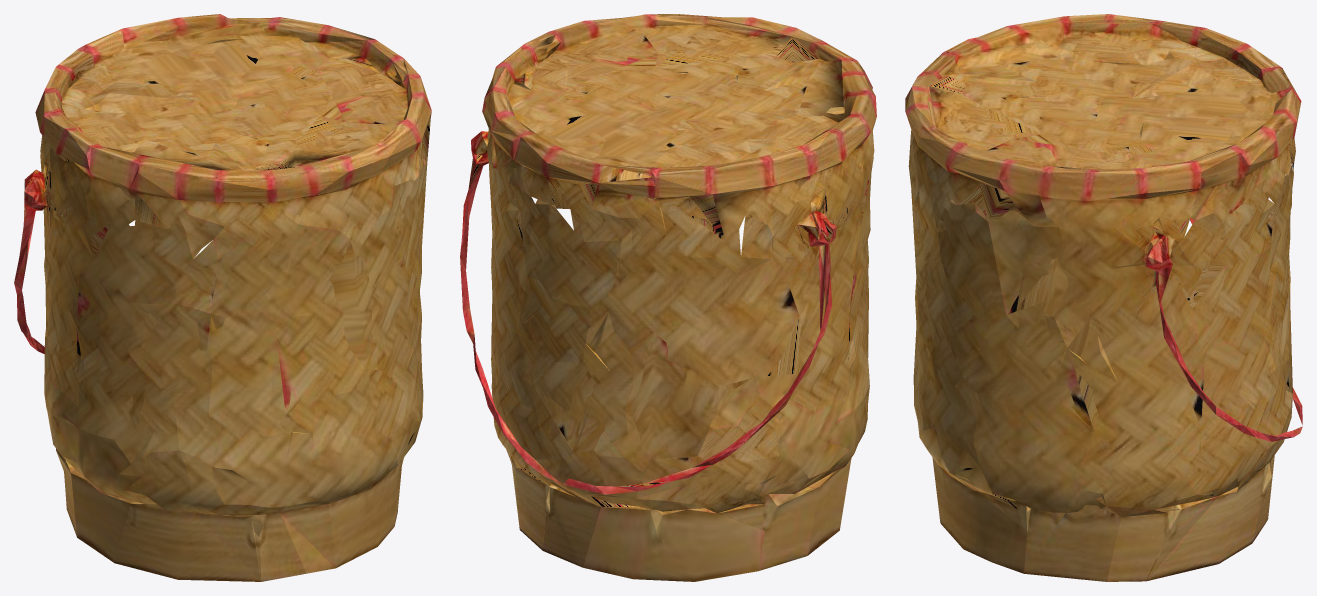
The model's file is w3kratip.glb.
The picture shows the model from 3 angles, left to right: view 1: azimuth 30°, elevation 25°; view 2: azimuth 150°, elevation 25°; view 3: azimuth 270°, elevation 25°; orthographic projection.
Parts seen in each view (by area): view 1: w3kratip_near, w3kratip_far; view 2: w3kratip_near, w3kratip_far; view 3: w3kratip_near, w3kratip_far.
Boxes of the visible parts, x1,y1,x2,y2 form: w3kratip_near: [14, 14, 431, 581]; w3kratip_far: [22, 18, 430, 581]; w3kratip_near: [460, 14, 876, 581]; w3kratip_far: [460, 19, 873, 581]; w3kratip_near: [905, 14, 1302, 580]; w3kratip_far: [905, 20, 1301, 581].
Size of the model in its own units: 0.1271 by 0.14 by 0.1197.
Materials: 1 (1 with a texture image).
